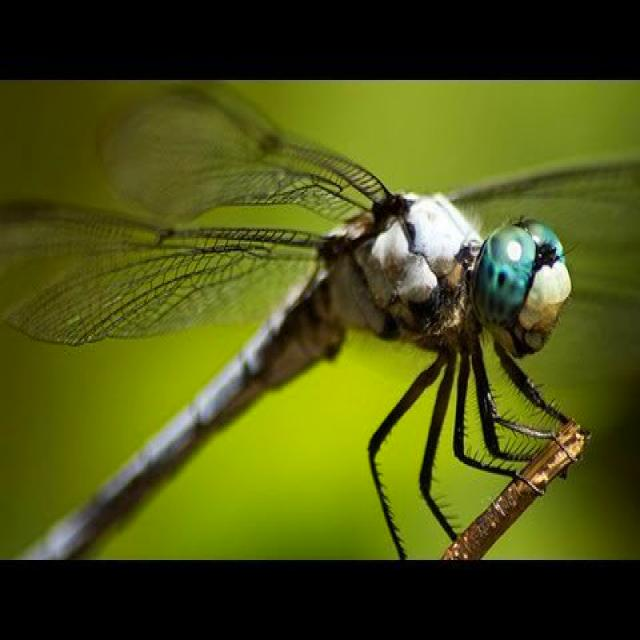dragonfly: (1, 89, 640, 558)
